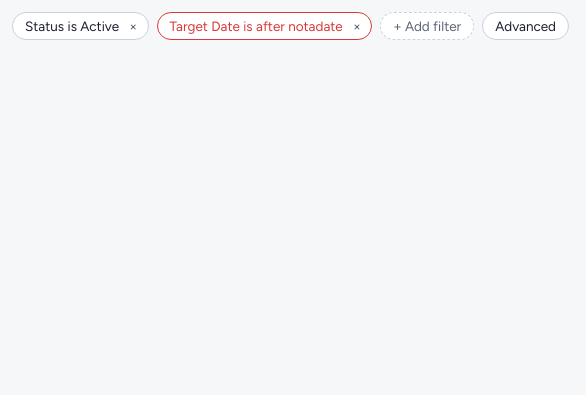
Test: FilterChipRow: a refused value is shown against its own chip › shows the server's message in the popover of the chip that carries the field
Click the button "Target Date is after notadate": point(253, 26) top-left (158, 13), bottom-right (349, 39)
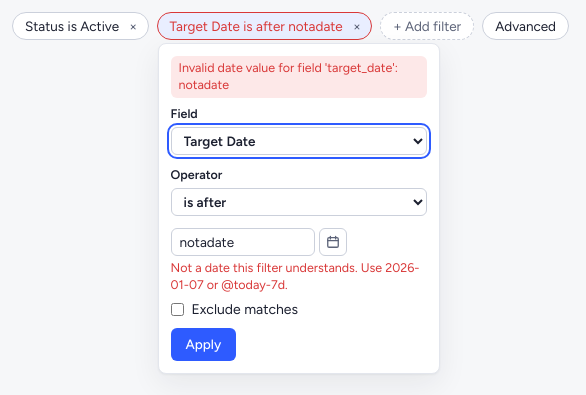
Expected: the message reads "Invalid date value for field 'target_date': notadate", top-left (178, 60), bottom-right (398, 92)
